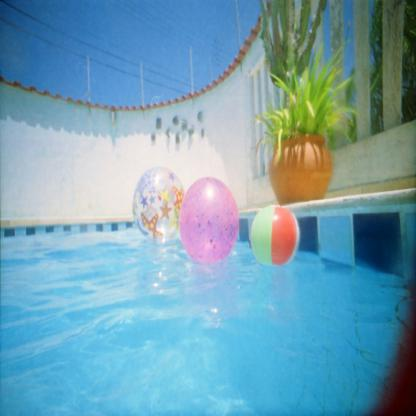Ball: (180, 175, 240, 264), (133, 165, 182, 239), (253, 205, 301, 266)
